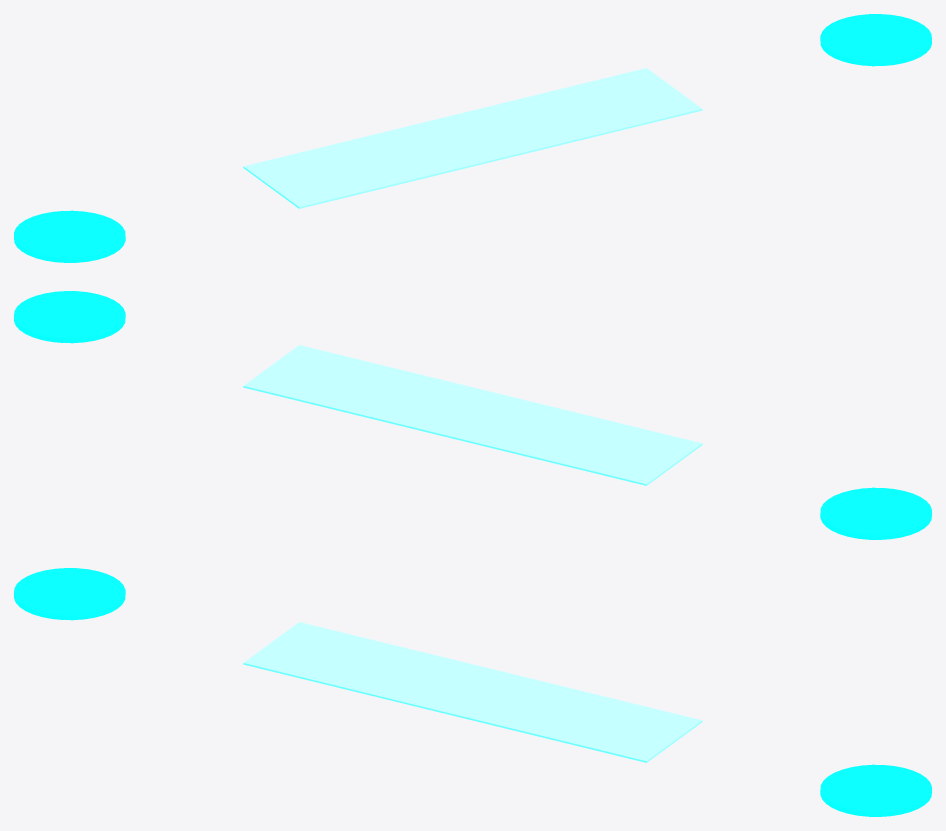
Rendered from straight_active.glb.
3 views of the same model, one above another, from view 1: azimuth 30°, elevation 25°; view 2: azimuth 150°, elevation 25°; view 3: azimuth 330°, elevation 25° (orthographic).
Parts seen in each view (by area): view 1: Trace_Strip, Via_Left, Via_Right; view 2: Trace_Strip, Via_Left, Via_Right; view 3: Trace_Strip, Via_Left, Via_Right.
Boxes of the visible parts, x1,y1,x2,y2 form: Trace_Strip: (243, 68, 702, 208); Via_Left: (14, 210, 125, 262); Via_Right: (820, 14, 931, 66); Trace_Strip: (243, 345, 702, 485); Via_Left: (820, 487, 931, 539); Via_Right: (14, 291, 125, 343); Trace_Strip: (243, 622, 702, 762); Via_Left: (14, 568, 125, 620); Via_Right: (820, 764, 931, 816).
Size of the model in its own units: 1.12 by 0.006 by 0.12.
